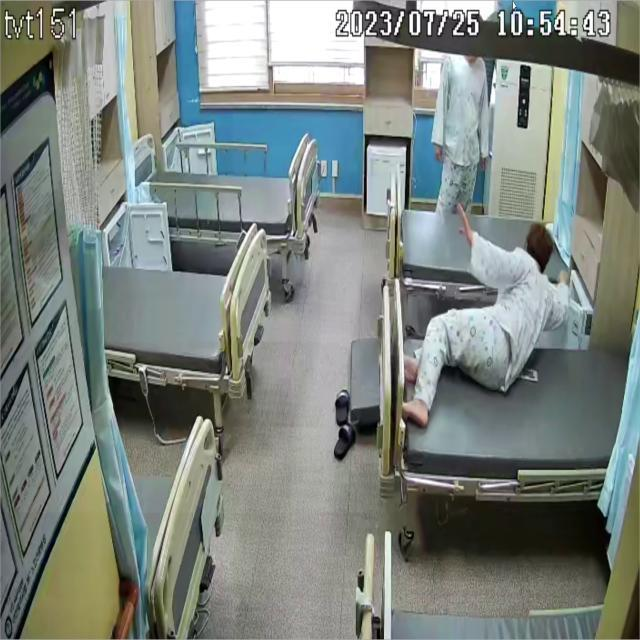bed: (397, 327, 631, 501), (102, 223, 274, 400), (136, 133, 320, 254), (388, 183, 570, 304)
danger: (404, 202, 570, 430)
patient: (405, 204, 571, 430)
